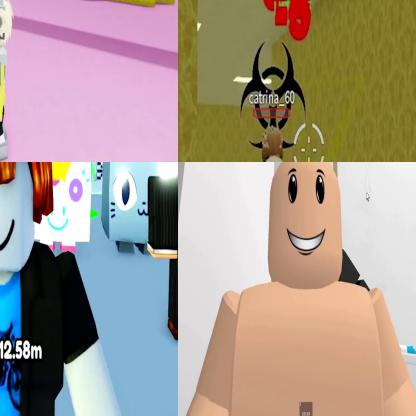Roblox-Avatar: (182, 163, 416, 416), (1, 163, 135, 416), (148, 163, 178, 346), (1, 1, 16, 162), (252, 125, 297, 162)
